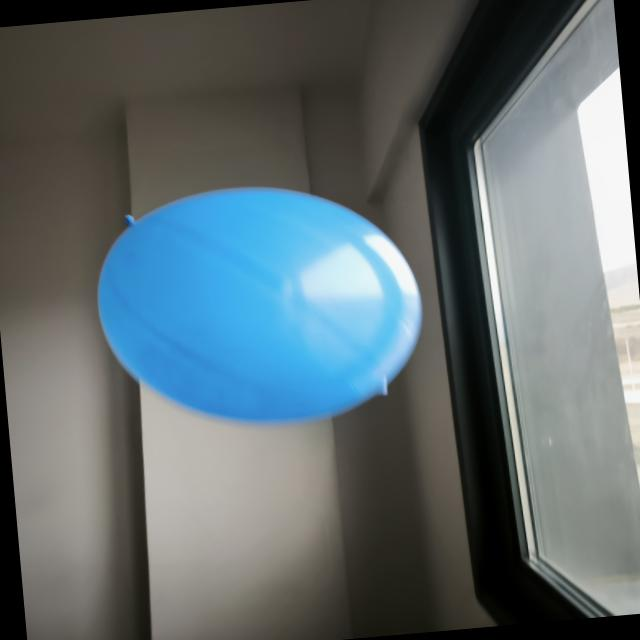balloon: (98, 187, 421, 422)
